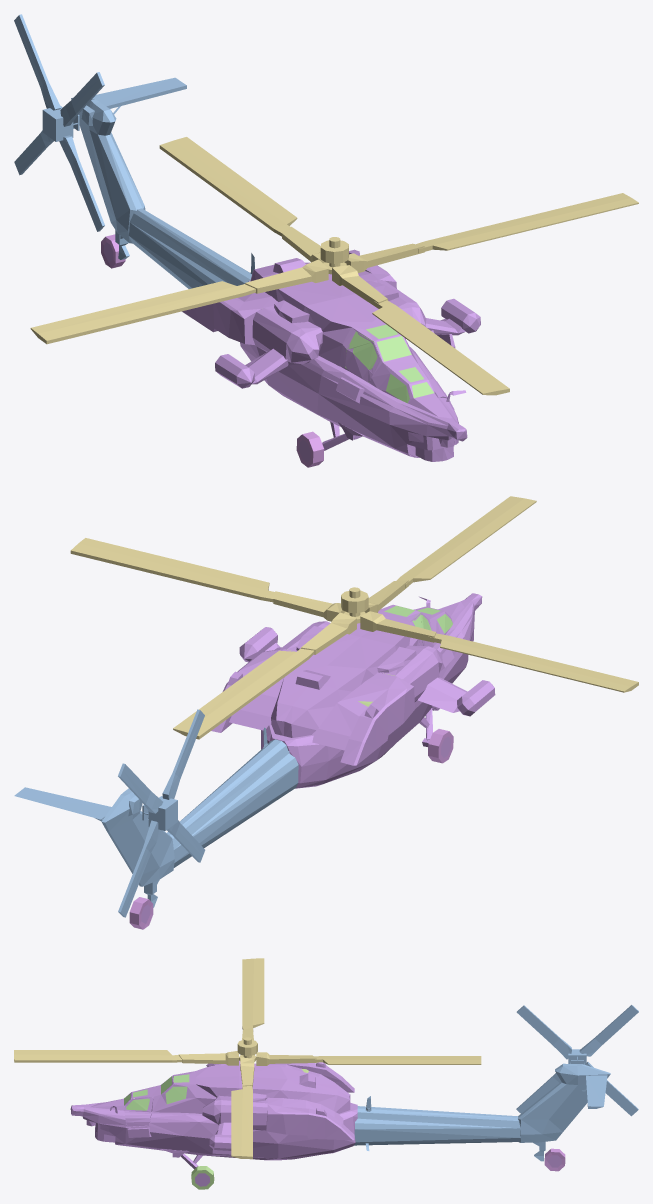
The model's file is air-rotary-havoc.glb.
The picture shows the model from 3 angles, top to bottom: view 1: azimuth 30°, elevation 25°; view 2: azimuth 150°, elevation 25°; view 3: azimuth 270°, elevation 25°; orthographic projection. The views are drawn at different scales.
Parts seen in each view (by area): view 1: CC_ROT_02_Body_01a, CC_ROT_02_Main_Rotor_Blades, CC_ROT_02_Main_Rotor, CC_ROT_02_RearRotor_Blades, CC_ROT_02_Right_Wheel, CC_ROT_02_Middle_Door_Right, CC_ROT_02_Rear_Rotor; view 2: CC_ROT_02_Body_01a, CC_ROT_02_Main_Rotor_Blades, CC_ROT_02_Main_Rotor, CC_ROT_02_RearRotor_Blades, CC_ROT_02_Right_Wheel, CC_ROT_02_Rear_Rotor; view 3: CC_ROT_02_Body_01a, CC_ROT_02_Main_Rotor_Blades, CC_ROT_02_RearRotor_Blades, CC_ROT_02_Main_Rotor, CC_ROT_02_Front_Door_Left, CC_ROT_02_Left_Wheel.
Part boxes in pixels (left/top/right/bottom): CC_ROT_02_Body_01a: left=71, top=77, right=480, bottom=461; CC_ROT_02_Main_Rotor_Blades: left=30, top=137, right=638, bottom=395; CC_ROT_02_Main_Rotor: left=245, top=226, right=424, bottom=308; CC_ROT_02_RearRotor_Blades: left=14, top=14, right=104, bottom=231; CC_ROT_02_Right_Wheel: left=296, top=422, right=362, bottom=467; CC_ROT_02_Middle_Door_Right: left=345, top=332, right=380, bottom=381; CC_ROT_02_Rear_Rotor: left=42, top=106, right=79, bottom=141; CC_ROT_02_Body_01a: left=14, top=593, right=495, bottom=929; CC_ROT_02_Main_Rotor_Blades: left=70, top=496, right=638, bottom=739; CC_ROT_02_Main_Rotor: left=273, top=580, right=436, bottom=654; CC_ROT_02_RearRotor_Blades: left=118, top=709, right=205, bottom=917; CC_ROT_02_Right_Wheel: left=419, top=708, right=453, bottom=763; CC_ROT_02_Rear_Rotor: left=142, top=796, right=177, bottom=830; CC_ROT_02_Body_01a: left=70, top=1060, right=610, bottom=1171; CC_ROT_02_Main_Rotor_Blades: left=14, top=958, right=481, bottom=1159; CC_ROT_02_RearRotor_Blades: left=516, top=1005, right=638, bottom=1116; CC_ROT_02_Main_Rotor: left=178, top=1027, right=316, bottom=1087; CC_ROT_02_Front_Door_Left: left=124, top=1097, right=153, bottom=1126; CC_ROT_02_Left_Wheel: left=181, top=1154, right=214, bottom=1189.
Bounding box in the file's own units: 14.43 × 5.17 × 19.29.
